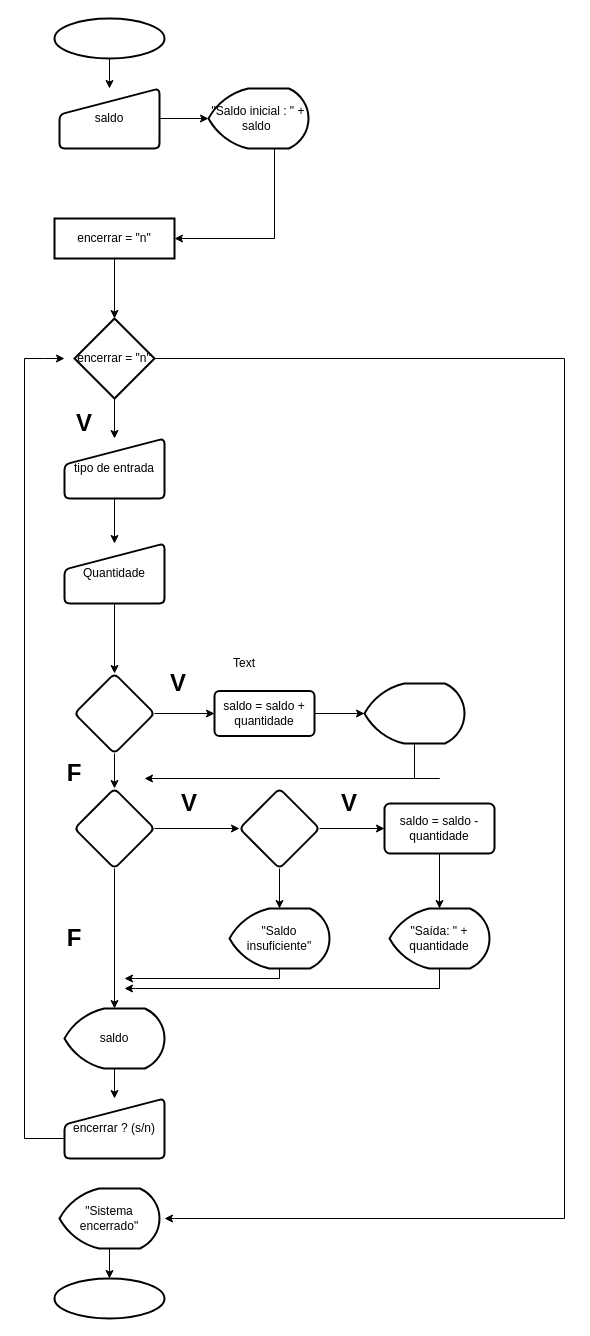
The diagram is 590 pixels wide and 1336 high, and some of its shapes have lost their labels. Here are the shapes that lost their labels. From the top down, the centre of each, then its label:
(109,38): inicio
(114,713): Tipo entrada =1
(414,713): "Entrada: " + quantidade
(114,828): tipo de entrada =2
(279,828): saldo >= quantidade
(109,1298): FIm
